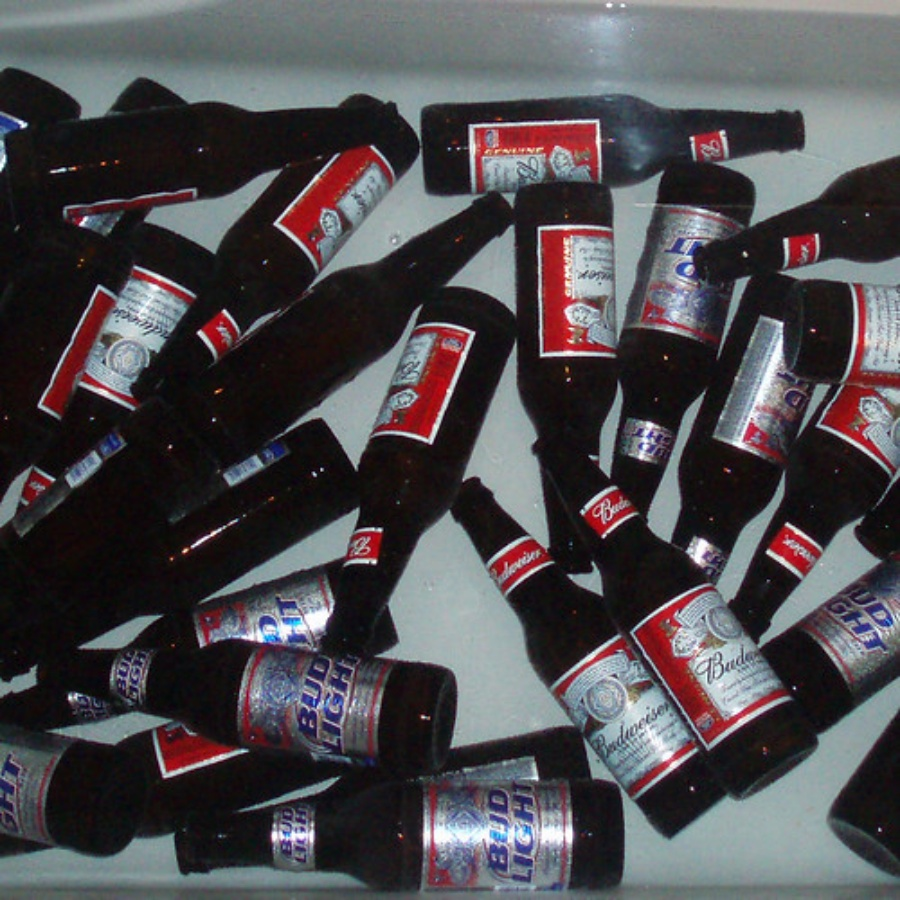beer: (534, 436, 790, 770), (330, 298, 516, 637), (33, 624, 459, 762), (167, 769, 628, 885), (515, 181, 622, 552), (405, 96, 819, 187)
